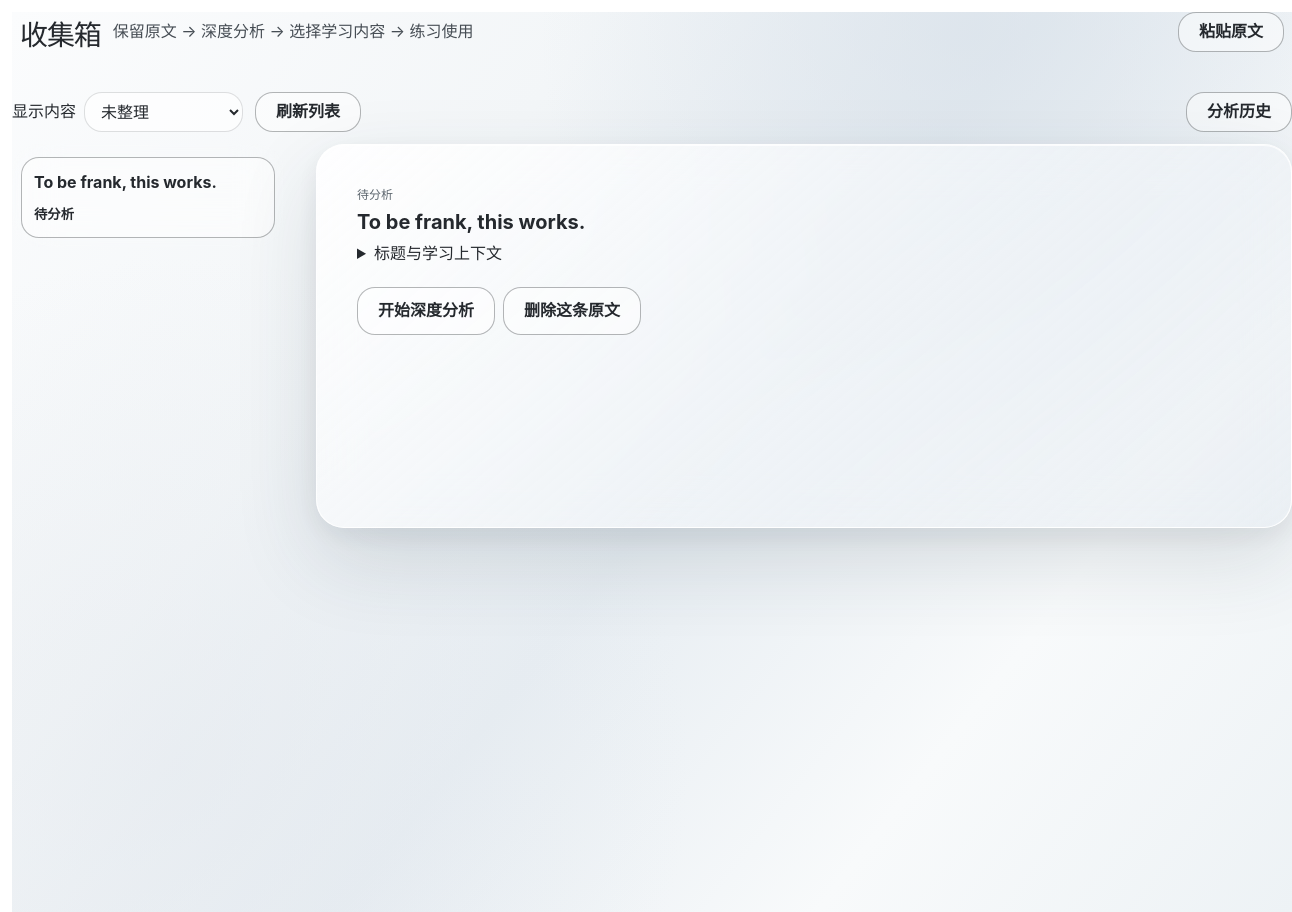
Scenario: explains a timeout and never labels a stopped preview as ongoing generation
Click the button "开始深度分析" at x=426, y=311, box [357,287,495,335]
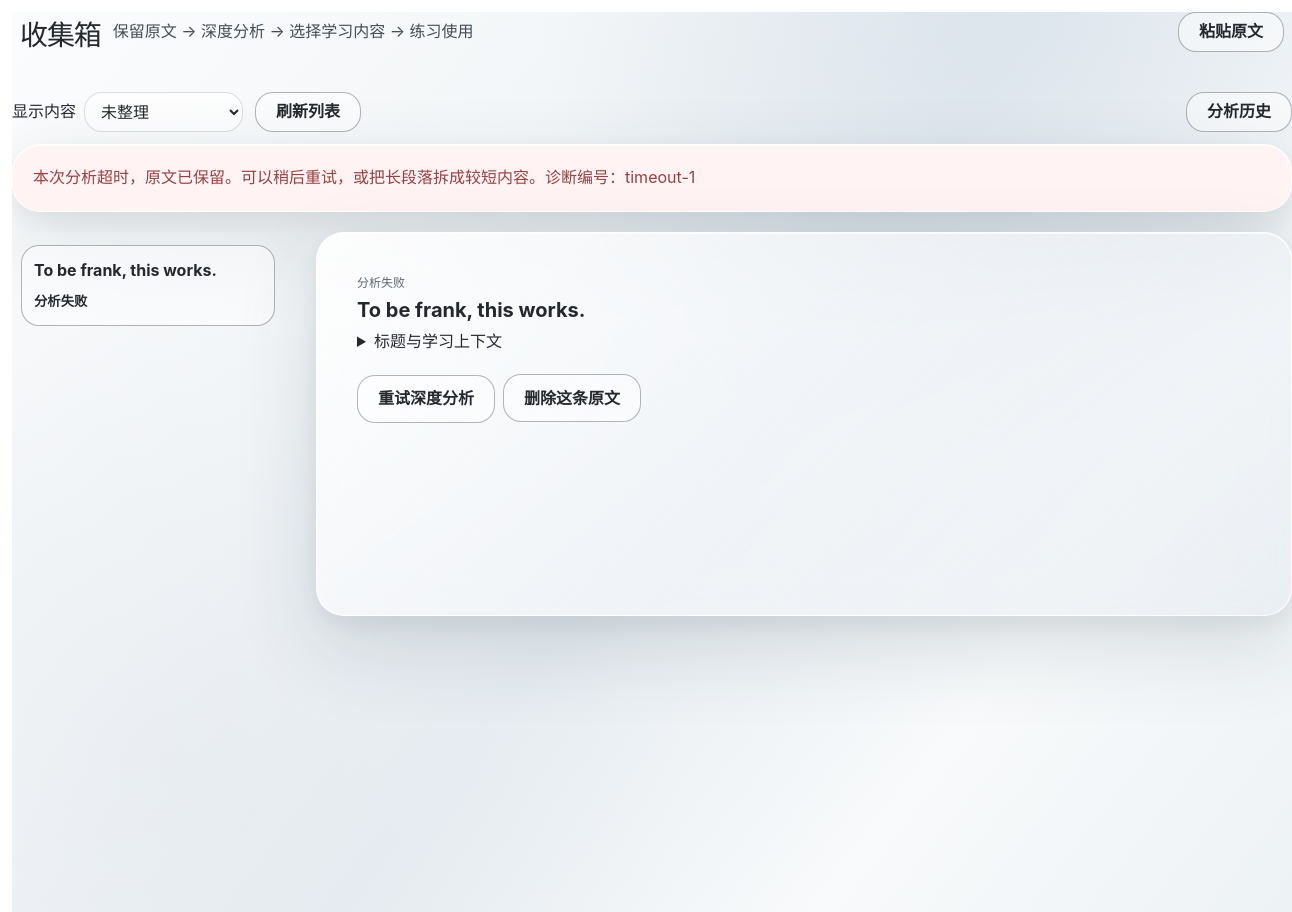
Expected: the button "重试深度分析" is enabled, [357,374,495,422]
Now the message "本次分析超时，原文已保留。可以稍后重试，或把长段落拆成较短内容。诊断编号：timeout-1" is shown, box [12,144,1291,212]
Now the text "原文已保留" is shown, box [33,167,695,187]
